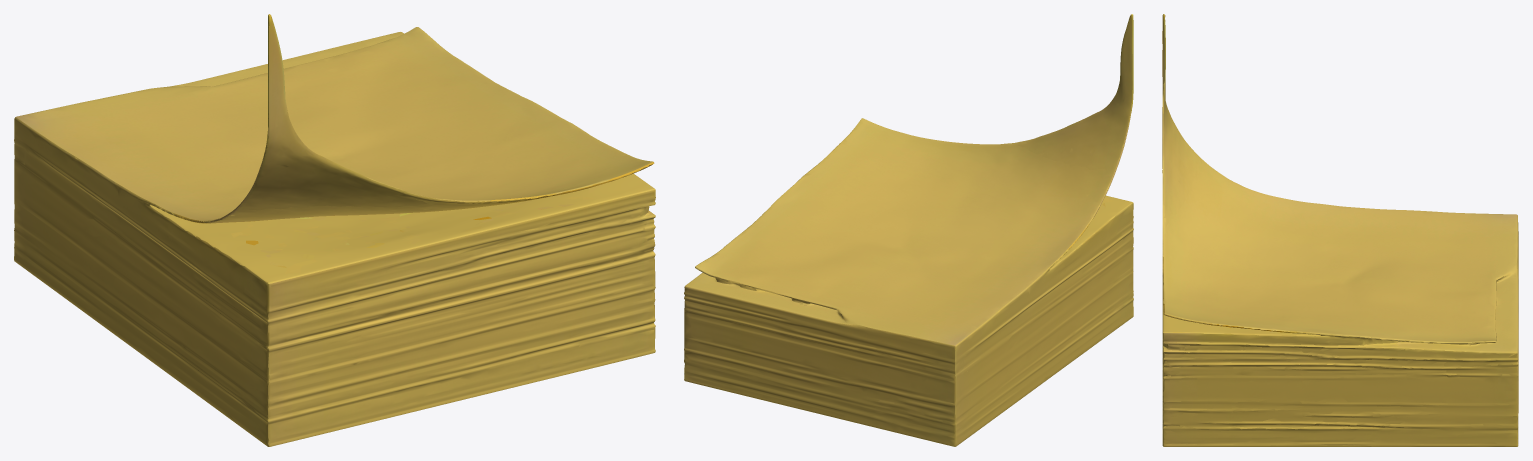
The model's file is StickyNotes.glb.
3 views of the same model, side by side, from view 1: azimuth 30°, elevation 25°; view 2: azimuth 150°, elevation 25°; view 3: azimuth 270°, elevation 25° (orthographic). The views are drawn at different scales.
Visible parts, largest first — view 1: StickyNotes; view 2: StickyNotes; view 3: StickyNotes.
Part boxes in pixels (left/top/right/bottom): StickyNotes: left=14, top=14, right=655, bottom=446; StickyNotes: left=684, top=14, right=1133, bottom=446; StickyNotes: left=1162, top=14, right=1518, bottom=446.
Bounding box in the file's own units: 1.76 × 1.87 × 2.
1 material, 1 textured.
